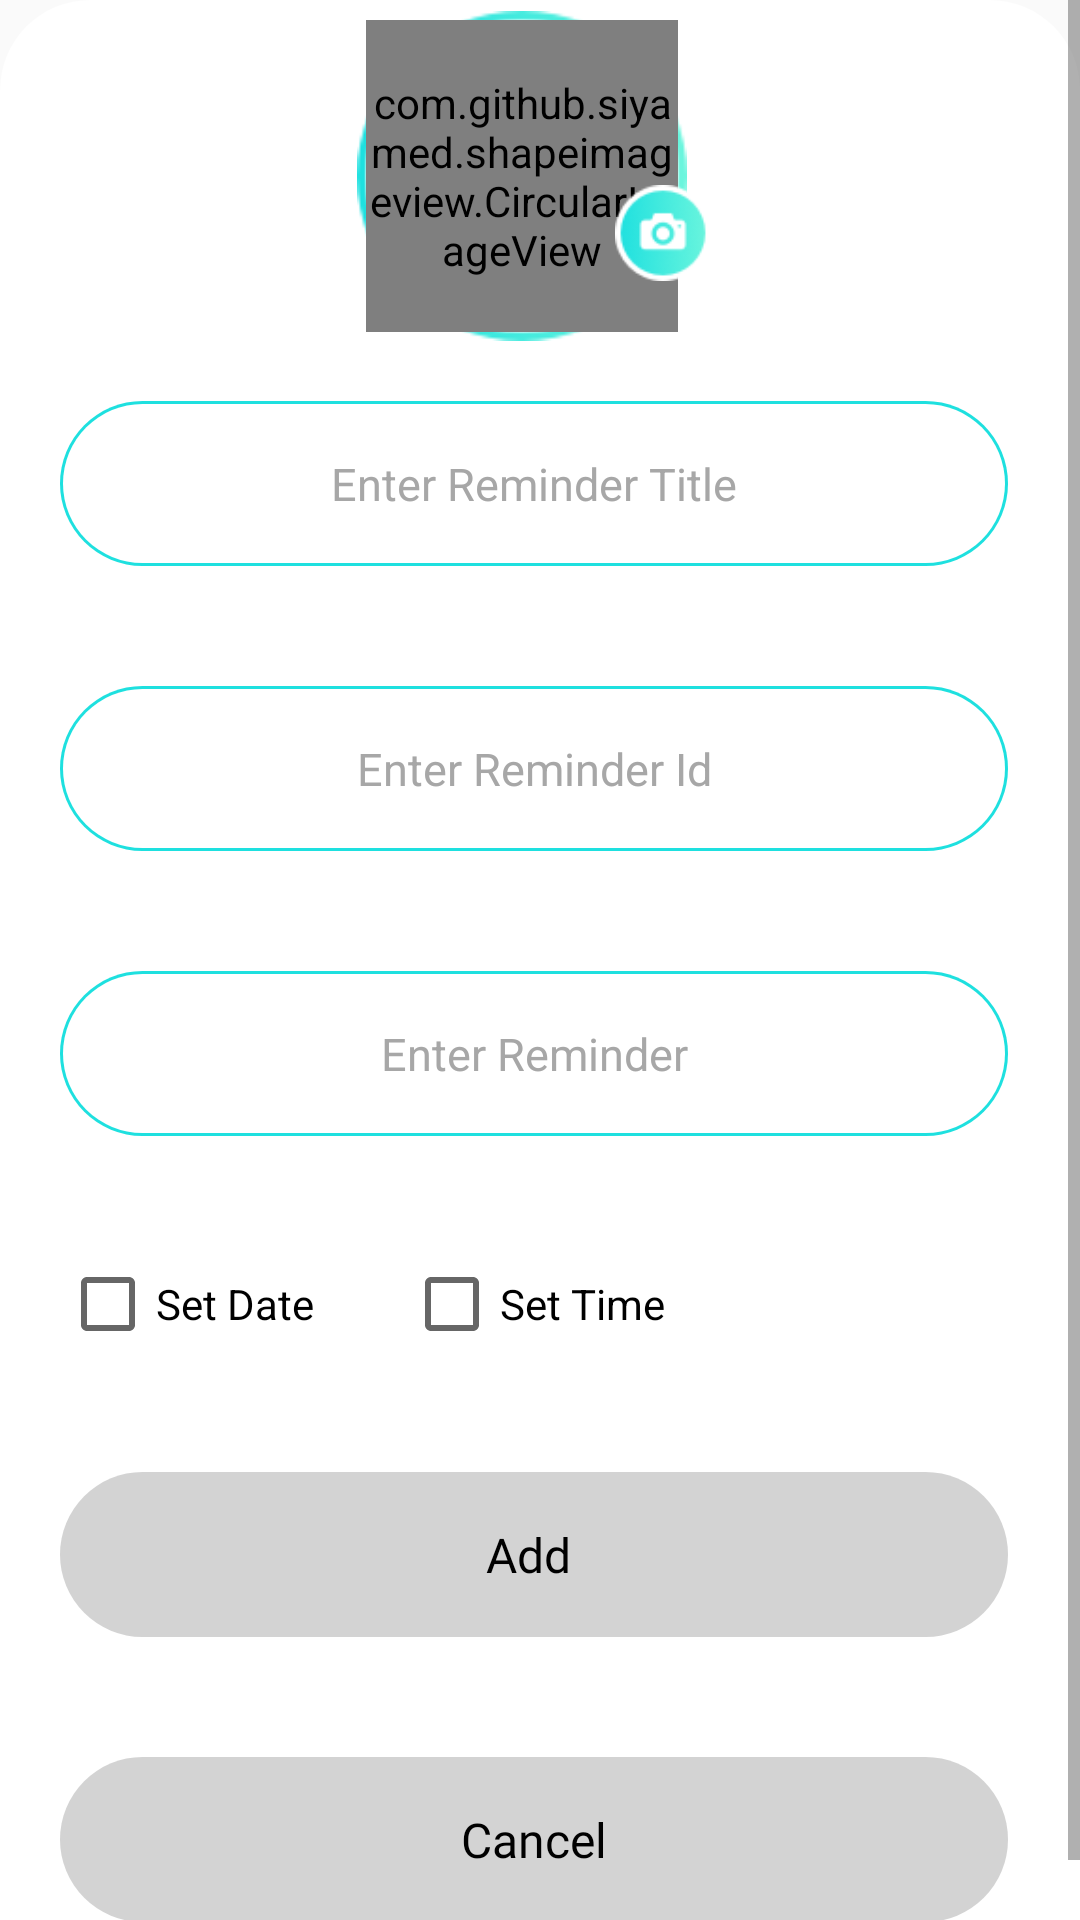

Where to tap for icons on this 1080w x 1920h app screen, as point (x, y):
camera: point (663, 233)
